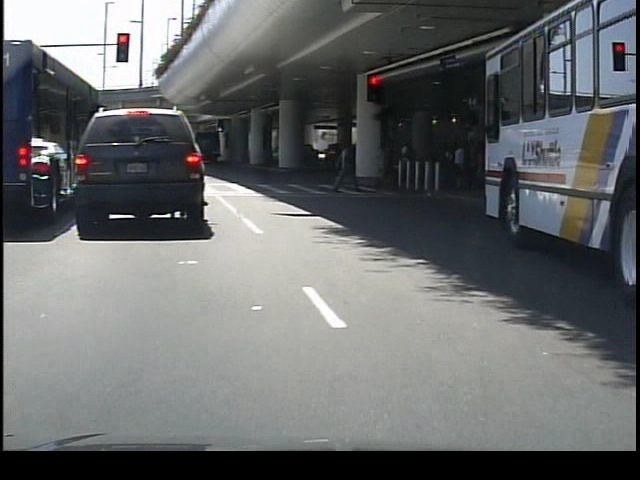person: (330, 135, 361, 198), (444, 136, 474, 195), (378, 137, 404, 192)
